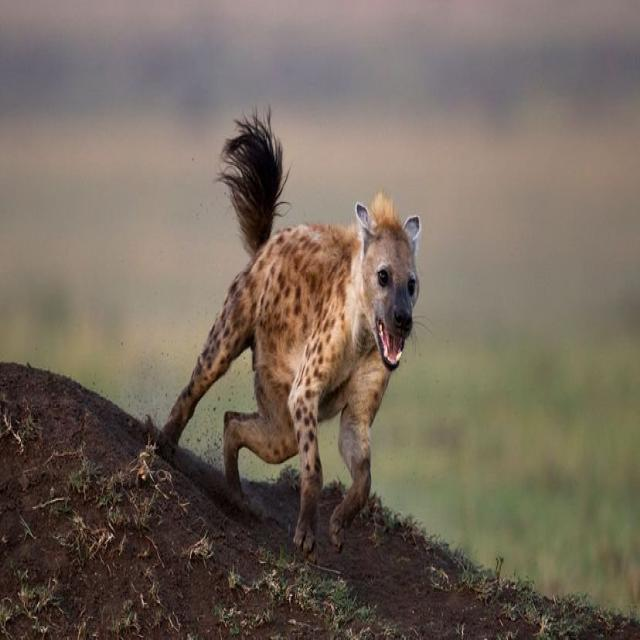Hyena: (143, 132, 431, 541)
